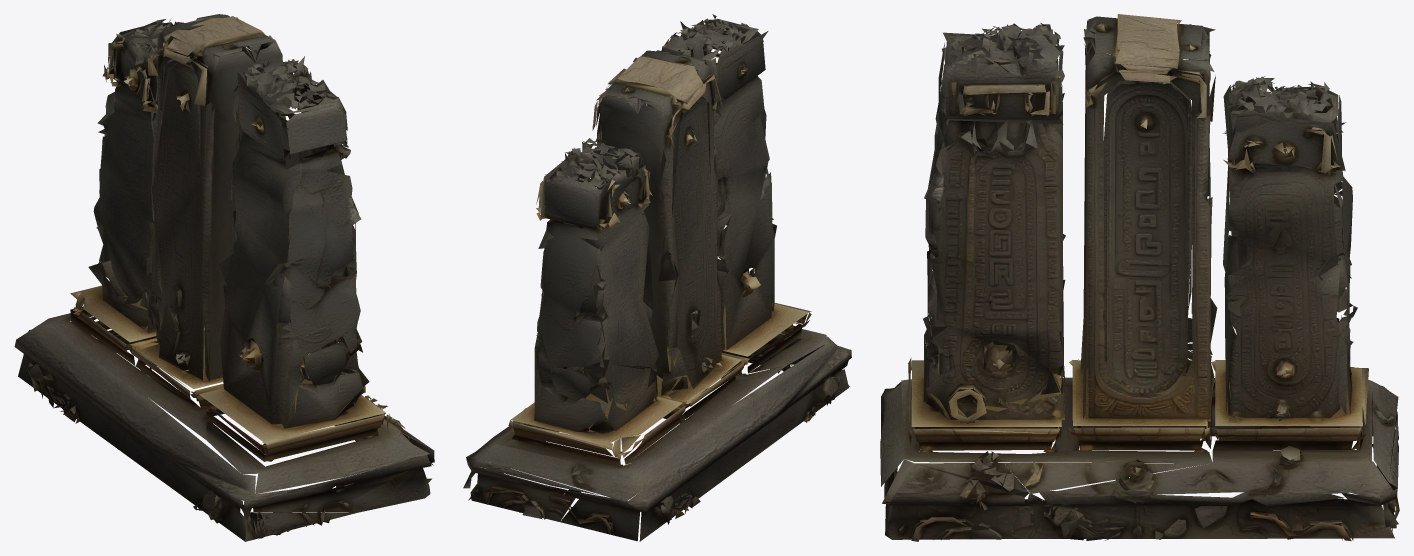
The model's file is ch2_voice_below_tablet_wall_LOD2.glb.
The picture shows the model from 3 angles, left to right: view 1: azimuth 30°, elevation 25°; view 2: azimuth 150°, elevation 25°; view 3: azimuth 270°, elevation 25°; orthographic projection. The views are drawn at different scales.
Parts seen in each view (by area): view 1: tripo_node_839c6332-e342-46e1-a384-716f313c721f; view 2: tripo_node_839c6332-e342-46e1-a384-716f313c721f; view 3: tripo_node_839c6332-e342-46e1-a384-716f313c721f.
Boxes of the visible parts, bbox=[...] form: tripo_node_839c6332-e342-46e1-a384-716f313c721f: bbox=[14, 14, 434, 541]; tripo_node_839c6332-e342-46e1-a384-716f313c721f: bbox=[463, 14, 851, 541]; tripo_node_839c6332-e342-46e1-a384-716f313c721f: bbox=[880, 14, 1399, 541].
Bounding box in the file's own units: 0.5285 × 0.9914 × 1.
Materials: 1 (1 with a texture image).
